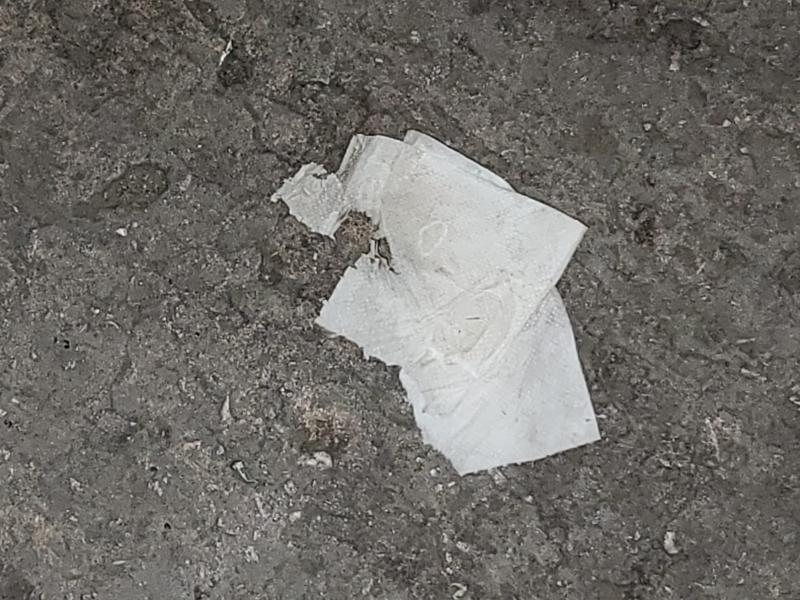papel: (272, 132, 603, 477)
